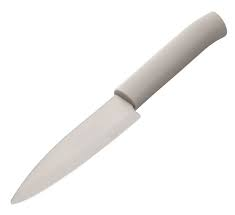knife: (10, 10, 228, 205)
